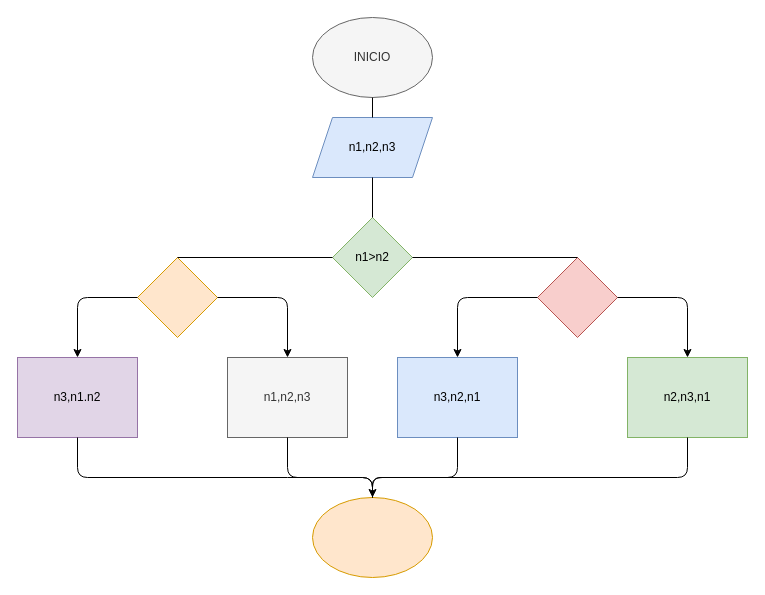
The diagram is 765 pixels wide and 595 high, and some of its shapes have lost their labels. The shapes that lost their labels are listed below. From the top down, each one's centre as x and y in pixels, then its label:
At pixel 177 297: "n1>n3".
At pixel 577 297: "n2>n3".
At pixel 372 537: "FIN".
